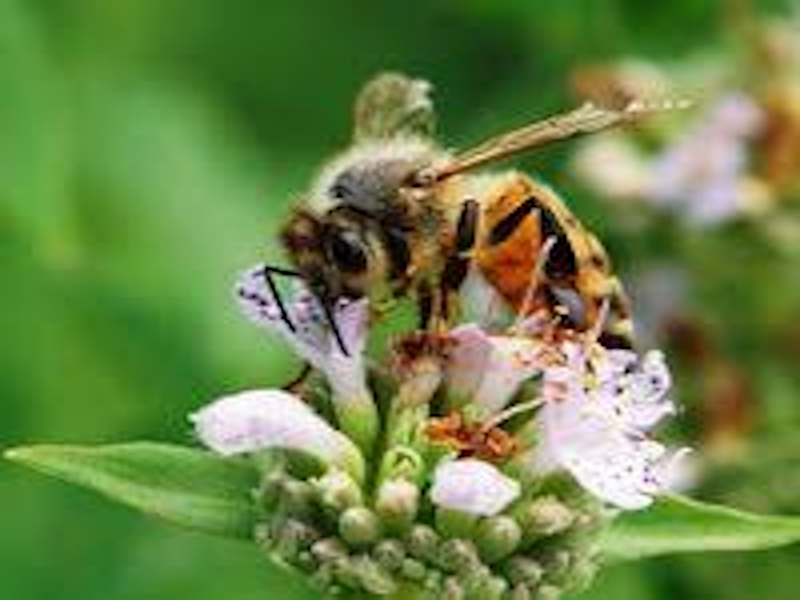abeja: (269, 48, 725, 391)
